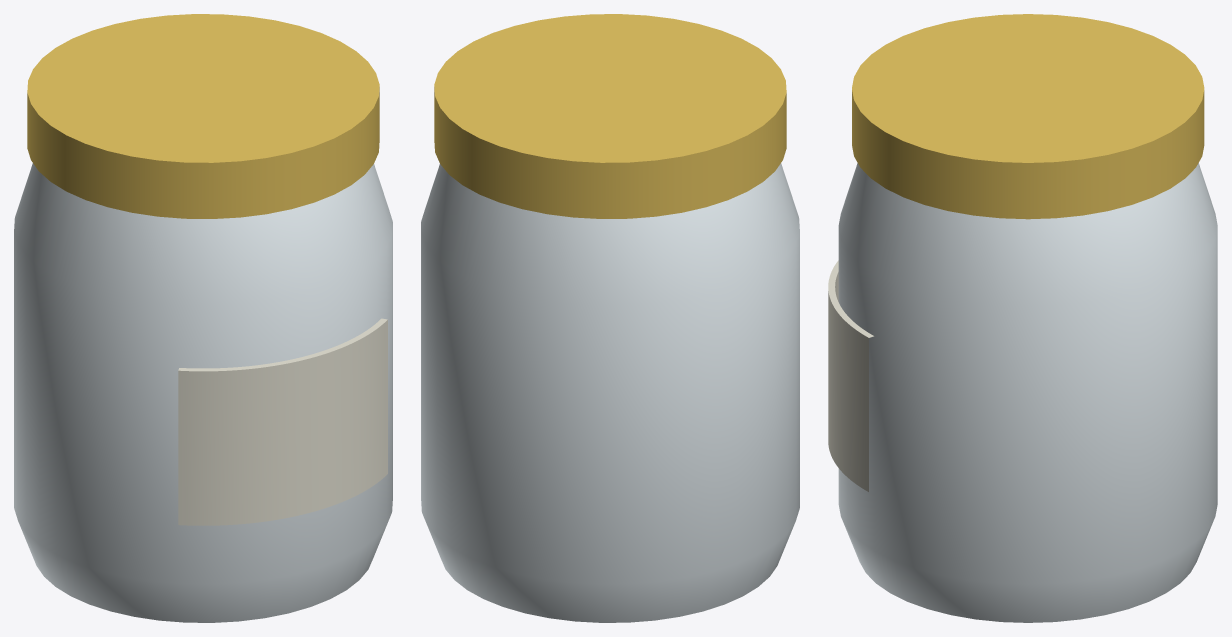
Rendered from beekeeping-and-honey-farm-honey-jar-375c6eb2__30738.glb.
3 renders of one model, left to right at view 1: azimuth 30°, elevation 25°; view 2: azimuth 150°, elevation 25°; view 3: azimuth 270°, elevation 25°, orthographic.
Parts seen in each view (by area): view 1: honey-jar; view 2: honey-jar; view 3: honey-jar.
Part boxes in pixels (left/top/right/bottom): honey-jar: left=14, top=14, right=392, bottom=622; honey-jar: left=421, top=14, right=799, bottom=622; honey-jar: left=828, top=14, right=1217, bottom=622.
Bounding box in the file's own units: 0.11 × 0.148 × 0.113.
